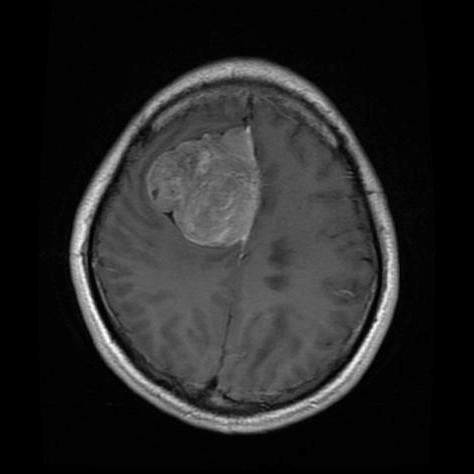Tumour-Meningioma: (126, 117, 277, 271)
